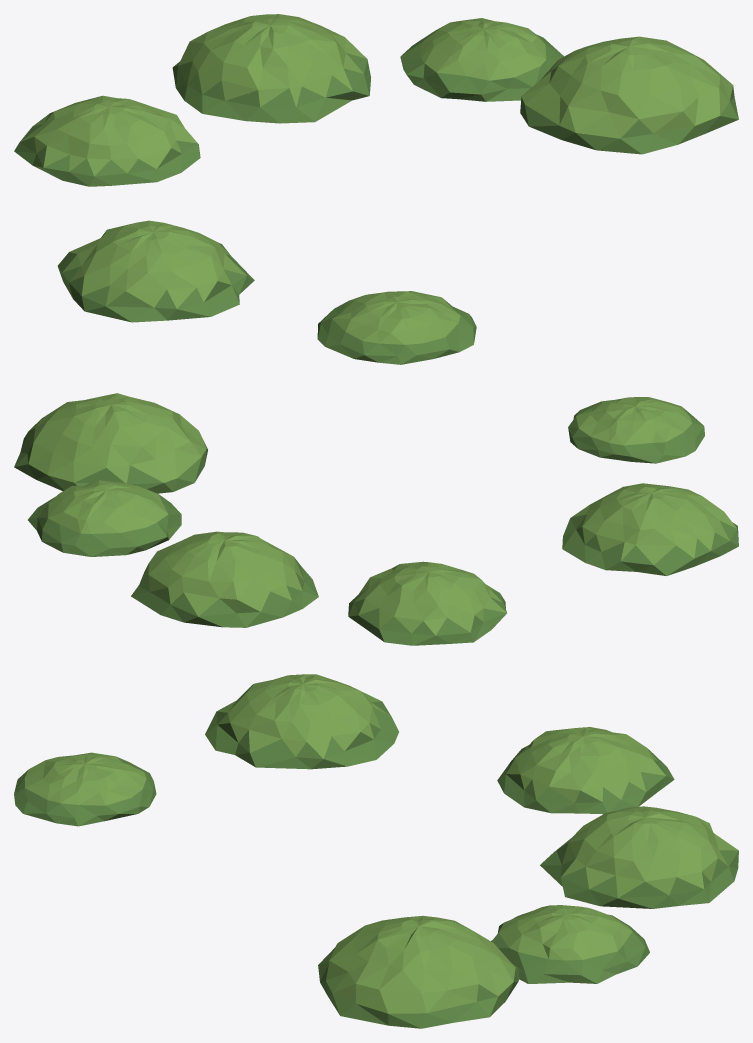
File: hills_ring.glb
3 views of the same model, one above another, from view 1: azimuth 30°, elevation 25°; view 2: azimuth 150°, elevation 25°; view 3: azimuth 270°, elevation 25° (orthographic). The views are drawn at different scales.
Visible parts, largest first — view 1: hills_ring; view 2: hills_ring; view 3: hills_ring.
Boxes of the visible parts, x1,y1,x2,y2 form: hills_ring: [14, 14, 738, 364]; hills_ring: [14, 393, 738, 645]; hills_ring: [14, 674, 738, 1028].
Bounding box in the file's own units: 274 × 22.33 × 250.
